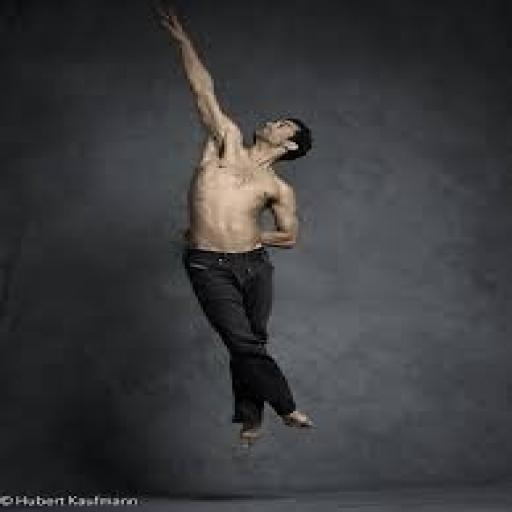dancing: (150, 4, 320, 445)
